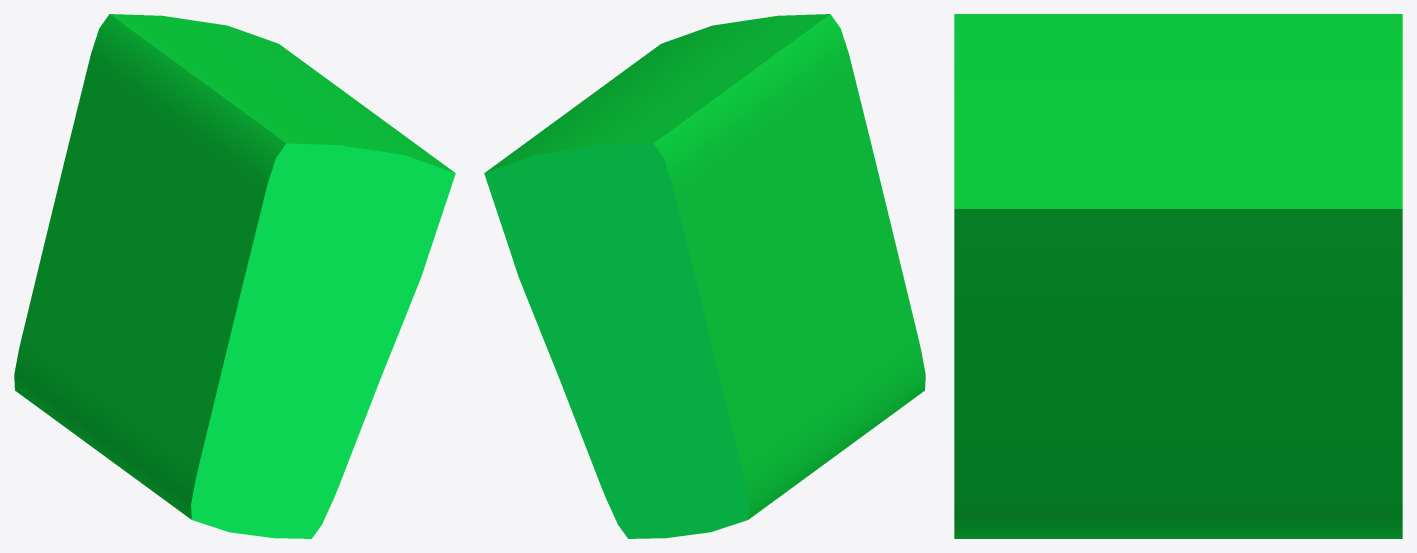
The model's file is symbol,_Zyzol_Green.glb.
The picture shows the model from 3 angles, left to right: view 1: azimuth 30°, elevation 25°; view 2: azimuth 150°, elevation 25°; view 3: azimuth 270°, elevation 25°; orthographic projection. The views are drawn at different scales.
Visible parts, largest first — view 1: ,_Zyzol_Green; view 2: ,_Zyzol_Green; view 3: ,_Zyzol_Green.
Part boxes in pixels (x1,y1,x2,y2): ,_Zyzol_Green: [14, 14, 455, 538]; ,_Zyzol_Green: [484, 14, 925, 538]; ,_Zyzol_Green: [954, 14, 1402, 538].
Size of what is drawn, in the model's own units: 0.0389 by 0.0564 by 0.045.
Materials: 2 (2 with a texture image).
